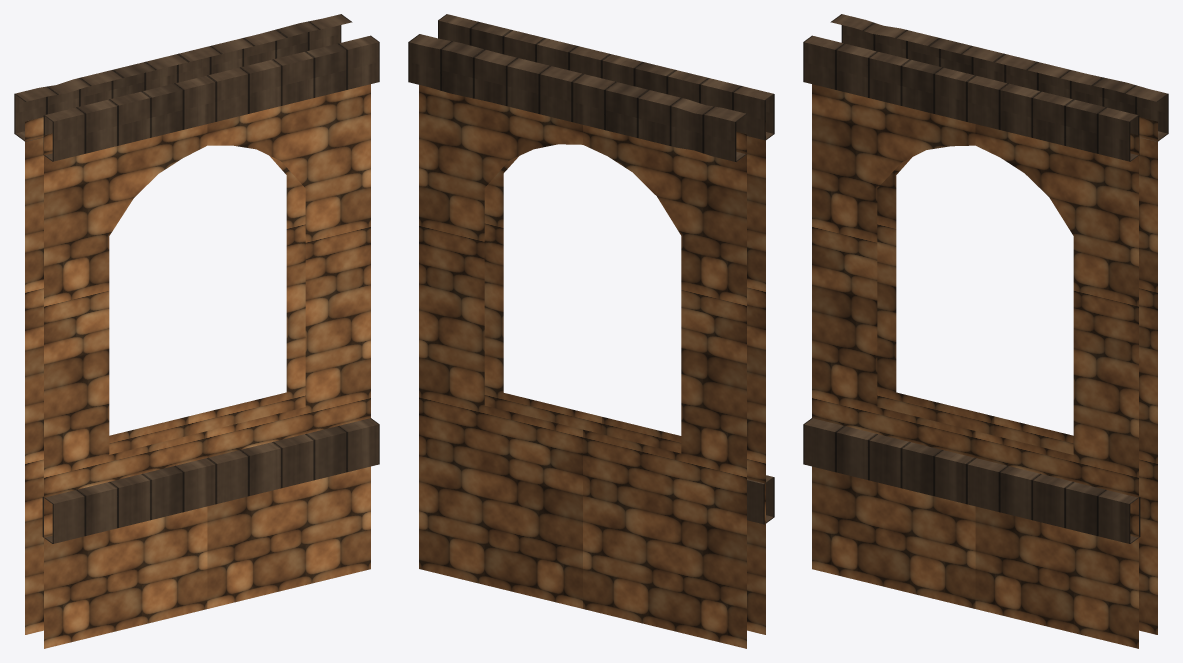
File: Wall_Sandstone_Window_Wide_Round_LOD2.gltf
The picture shows the model from 3 angles, left to right: view 1: azimuth 30°, elevation 25°; view 2: azimuth 150°, elevation 25°; view 3: azimuth 330°, elevation 25°; orthographic projection.
Visible parts, largest first — view 1: Wall_Sandstone_Window_Wide_Round_LOD2; view 2: Wall_Sandstone_Window_Wide_Round_LOD2; view 3: Wall_Sandstone_Window_Wide_Round_LOD2.
Part boxes in pixels (x1,y1,x2,y2): Wall_Sandstone_Window_Wide_Round_LOD2: (14, 14, 379, 648); Wall_Sandstone_Window_Wide_Round_LOD2: (408, 14, 774, 648); Wall_Sandstone_Window_Wide_Round_LOD2: (803, 14, 1168, 648).
Bounding box in the file's own units: 2 × 3.12 × 0.406.
2 materials, 2 textured.
